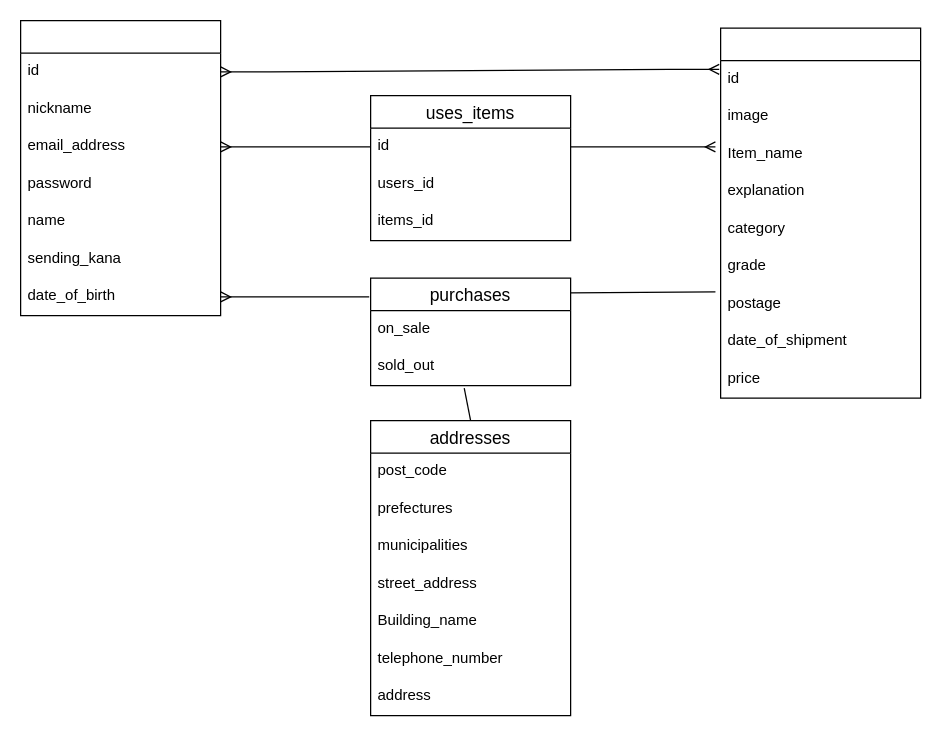
Image size: 941x736. Some labels were removed from this diagram. Here are the shapes that lost their labels. From the top down, the box of each, then its label:
(19, 19, 221, 316): users
(719, 27, 921, 398): items
